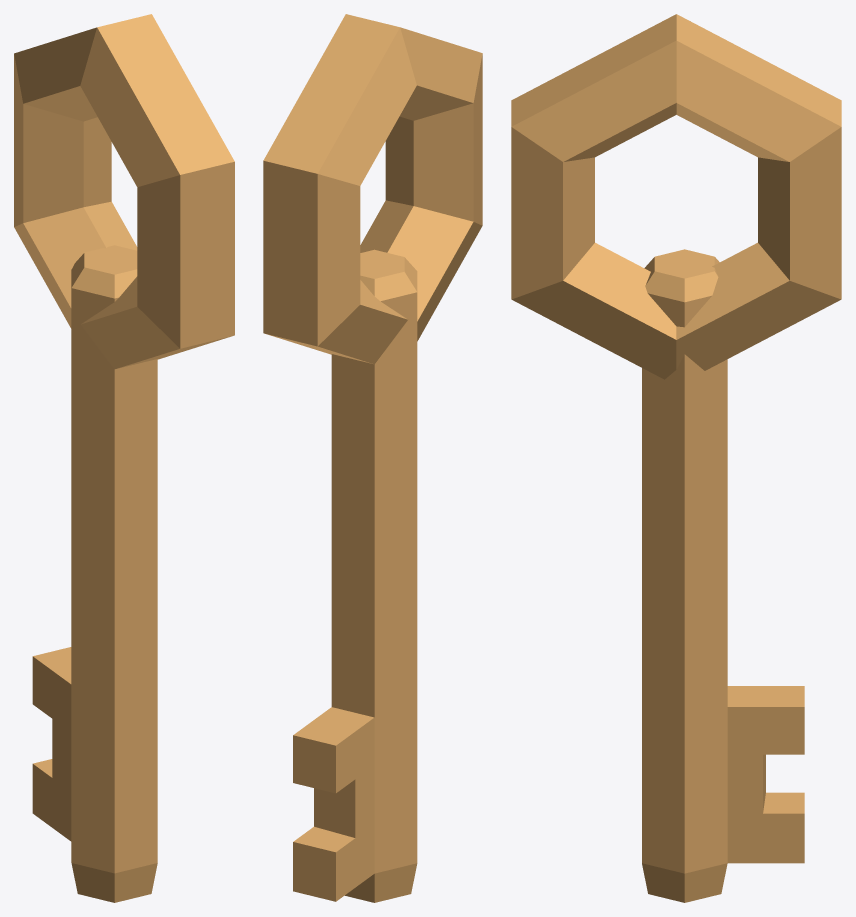
The model's file is SM_Prop_Key_01.obj.
3 views of the same model, side by side, from view 1: azimuth 30°, elevation 25°; view 2: azimuth 150°, elevation 25°; view 3: azimuth 270°, elevation 25° (orthographic).
Visible parts, largest first — view 1: SM_Prop_Key_01_0; view 2: SM_Prop_Key_01_0; view 3: SM_Prop_Key_01_0.
Boxes of the visible parts, box(x1,y1,x2,y2) form: SM_Prop_Key_01_0: box(14, 14, 234, 902); SM_Prop_Key_01_0: box(263, 14, 482, 902); SM_Prop_Key_01_0: box(511, 14, 841, 902).
Size of the model in its own units: 0.0198 by 0.1759 by 0.0611.
Materials: 1 (1 with a texture image).
